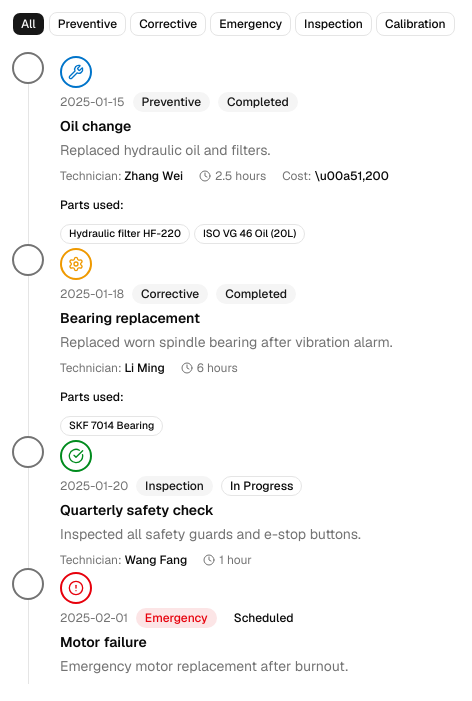
MaintenanceLog › shows all entries when 'All' filter is selected
Click the button "Emergency" at point(251, 24), box [210, 12, 291, 36]
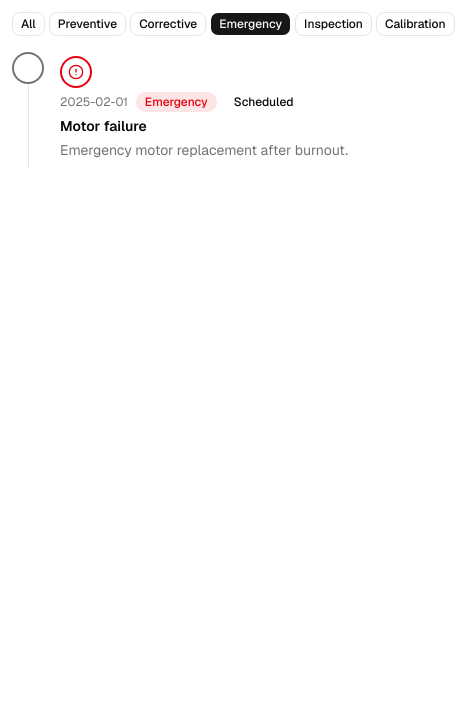
Expected: the heading "Oil change" is gone
Click the button "All" at point(28, 24), box [12, 12, 45, 36]
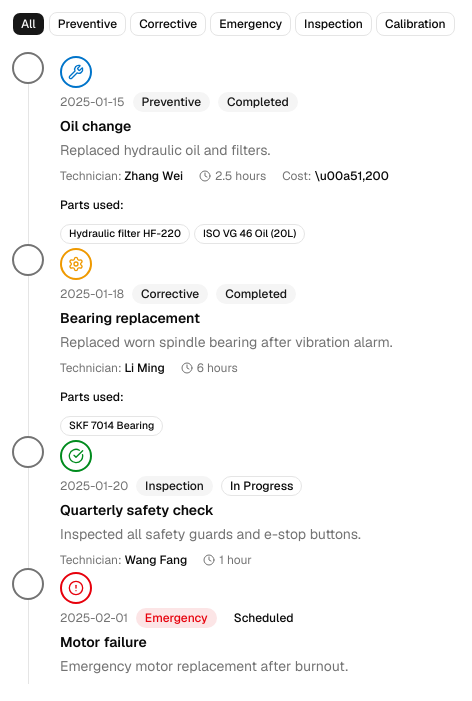
Expected: the heading "Motor failure" is shown, [60, 633, 147, 651]
Expected: the heading "Oil change" is shown, [60, 117, 131, 135]
